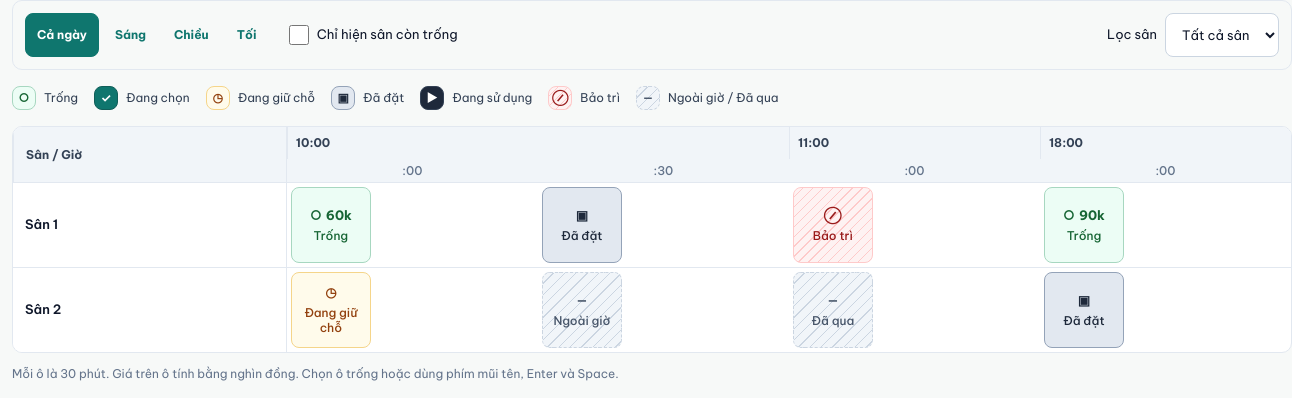
ScheduleGrid: bộ lọc › lọc buổi tối và chỉ hiện sân còn trống
What coordinates should you click on to do the following:
click the button "Tối"
I would click on:
 (247, 35)
Its box is [225, 13, 269, 57].
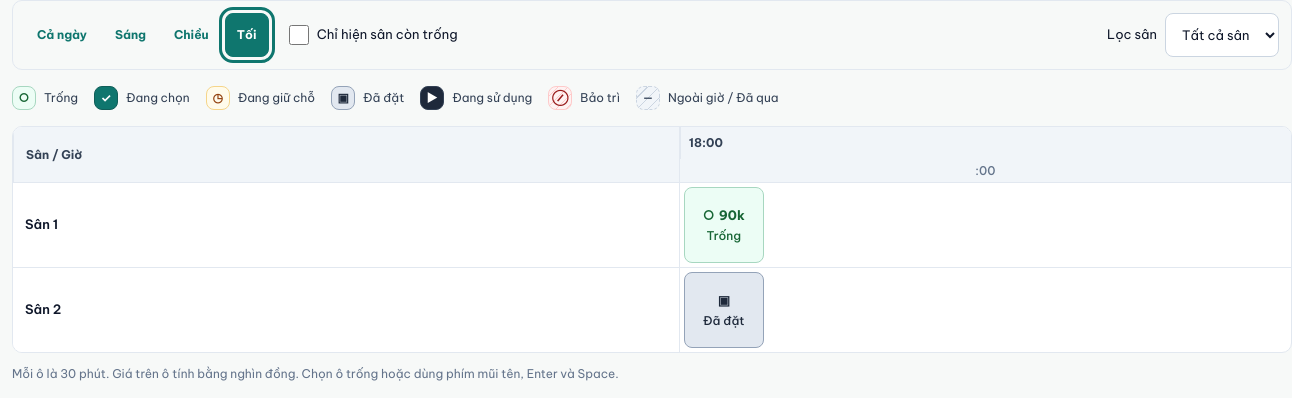
Now the number of buttons named "18:00 đến" is 2, box [684, 187, 764, 263]; [684, 272, 764, 348]
What coordinates should you click on to do the following:
click the checkbox labelled "Chỉ hiện sân còn trống"
I would click on:
 (299, 35)
Its box is [289, 25, 309, 45].
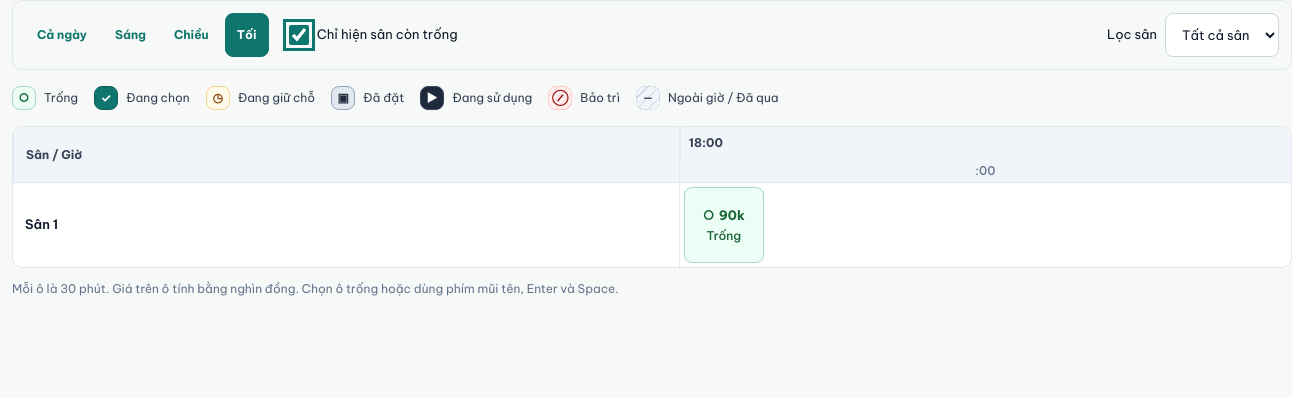
Now the number of buttons named "18:00 đến" is 1, box [684, 187, 764, 263]
Now the column heading "Sân 2" is gone
